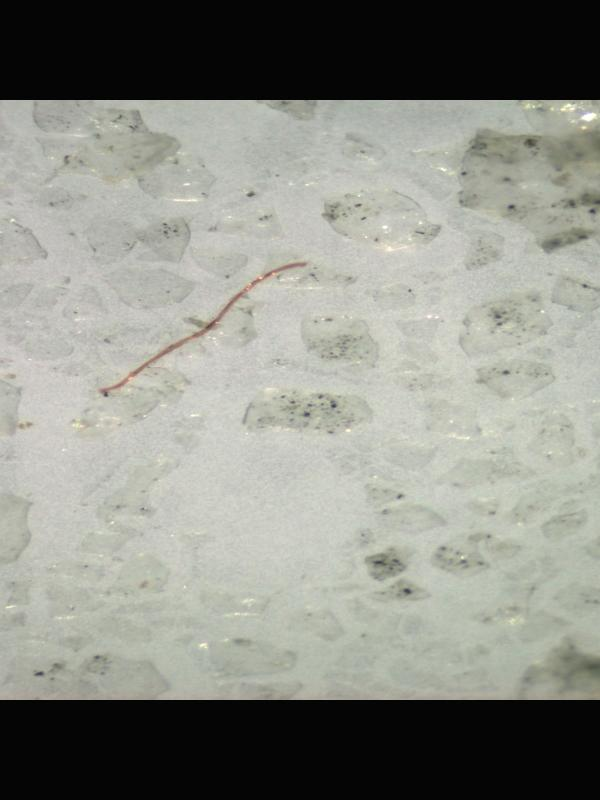microplastic: (97, 261, 309, 398), (456, 127, 600, 255)
